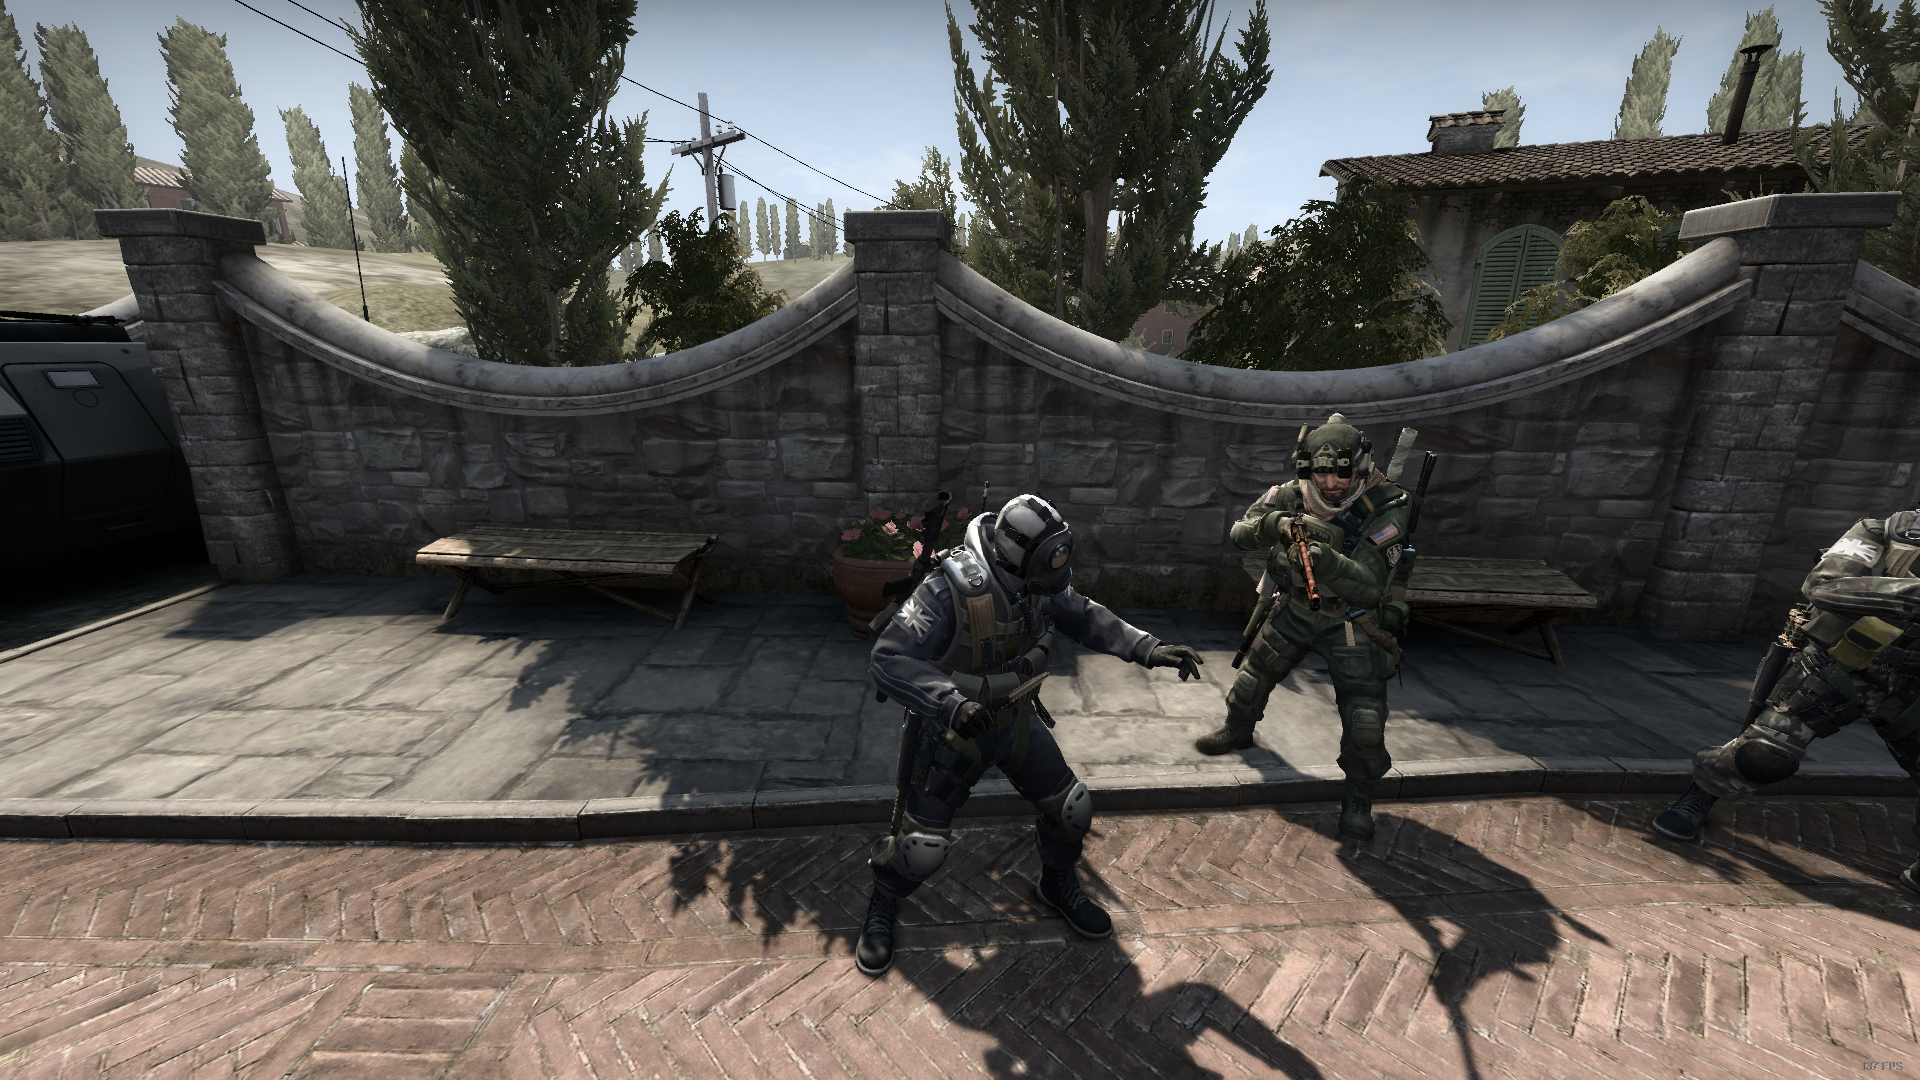ct: (851, 489, 1207, 992)
